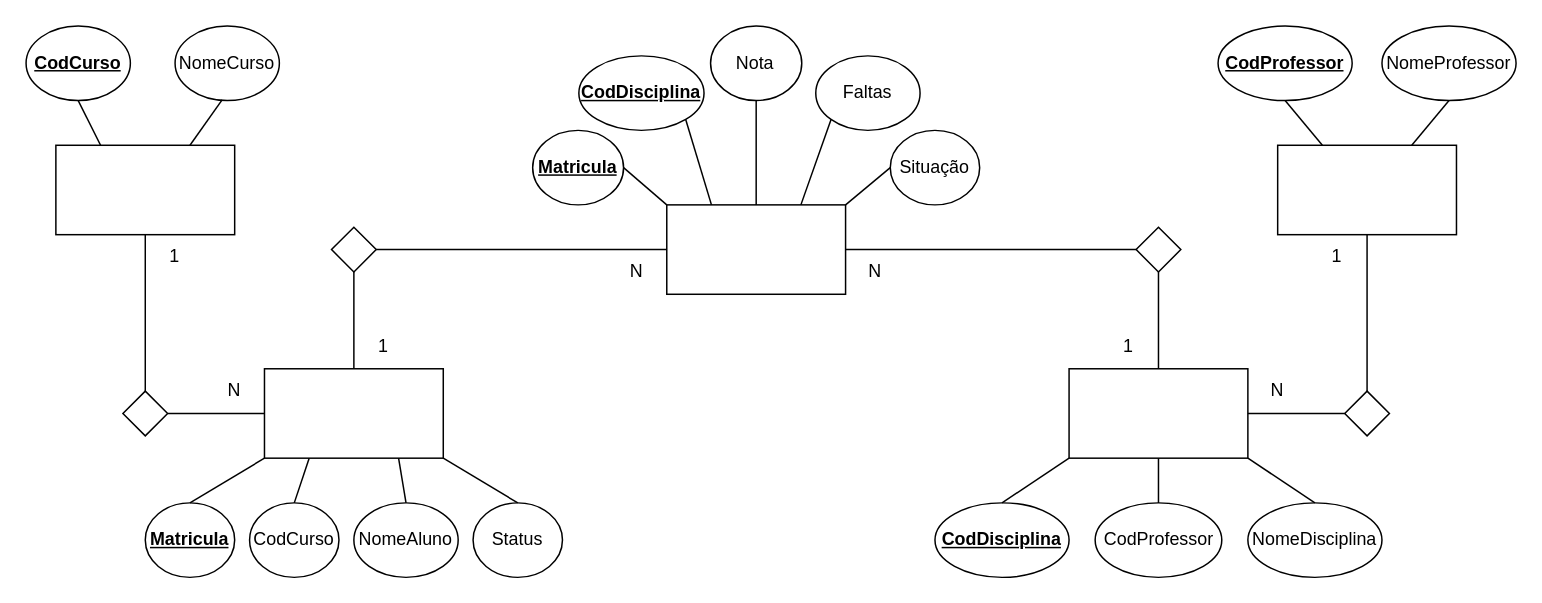
The diagram is 1542 pixels wide and 603 high, and some of its shapes have lost their labels. Each missing label, with the box of its shape:
Aluno: (263, 367, 443, 458)
Curso: (54, 144, 235, 235)
Disciplina: (1068, 367, 1248, 458)
Histórico: (665, 203, 846, 294)
Professor: (1276, 144, 1456, 235)
